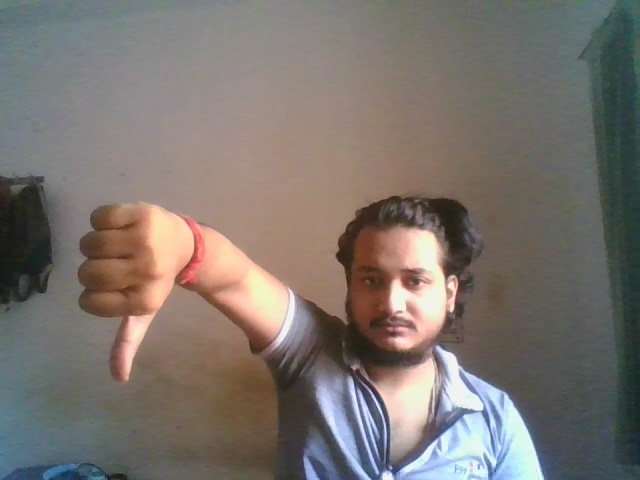ThumbsDown: (78, 200, 186, 387)
